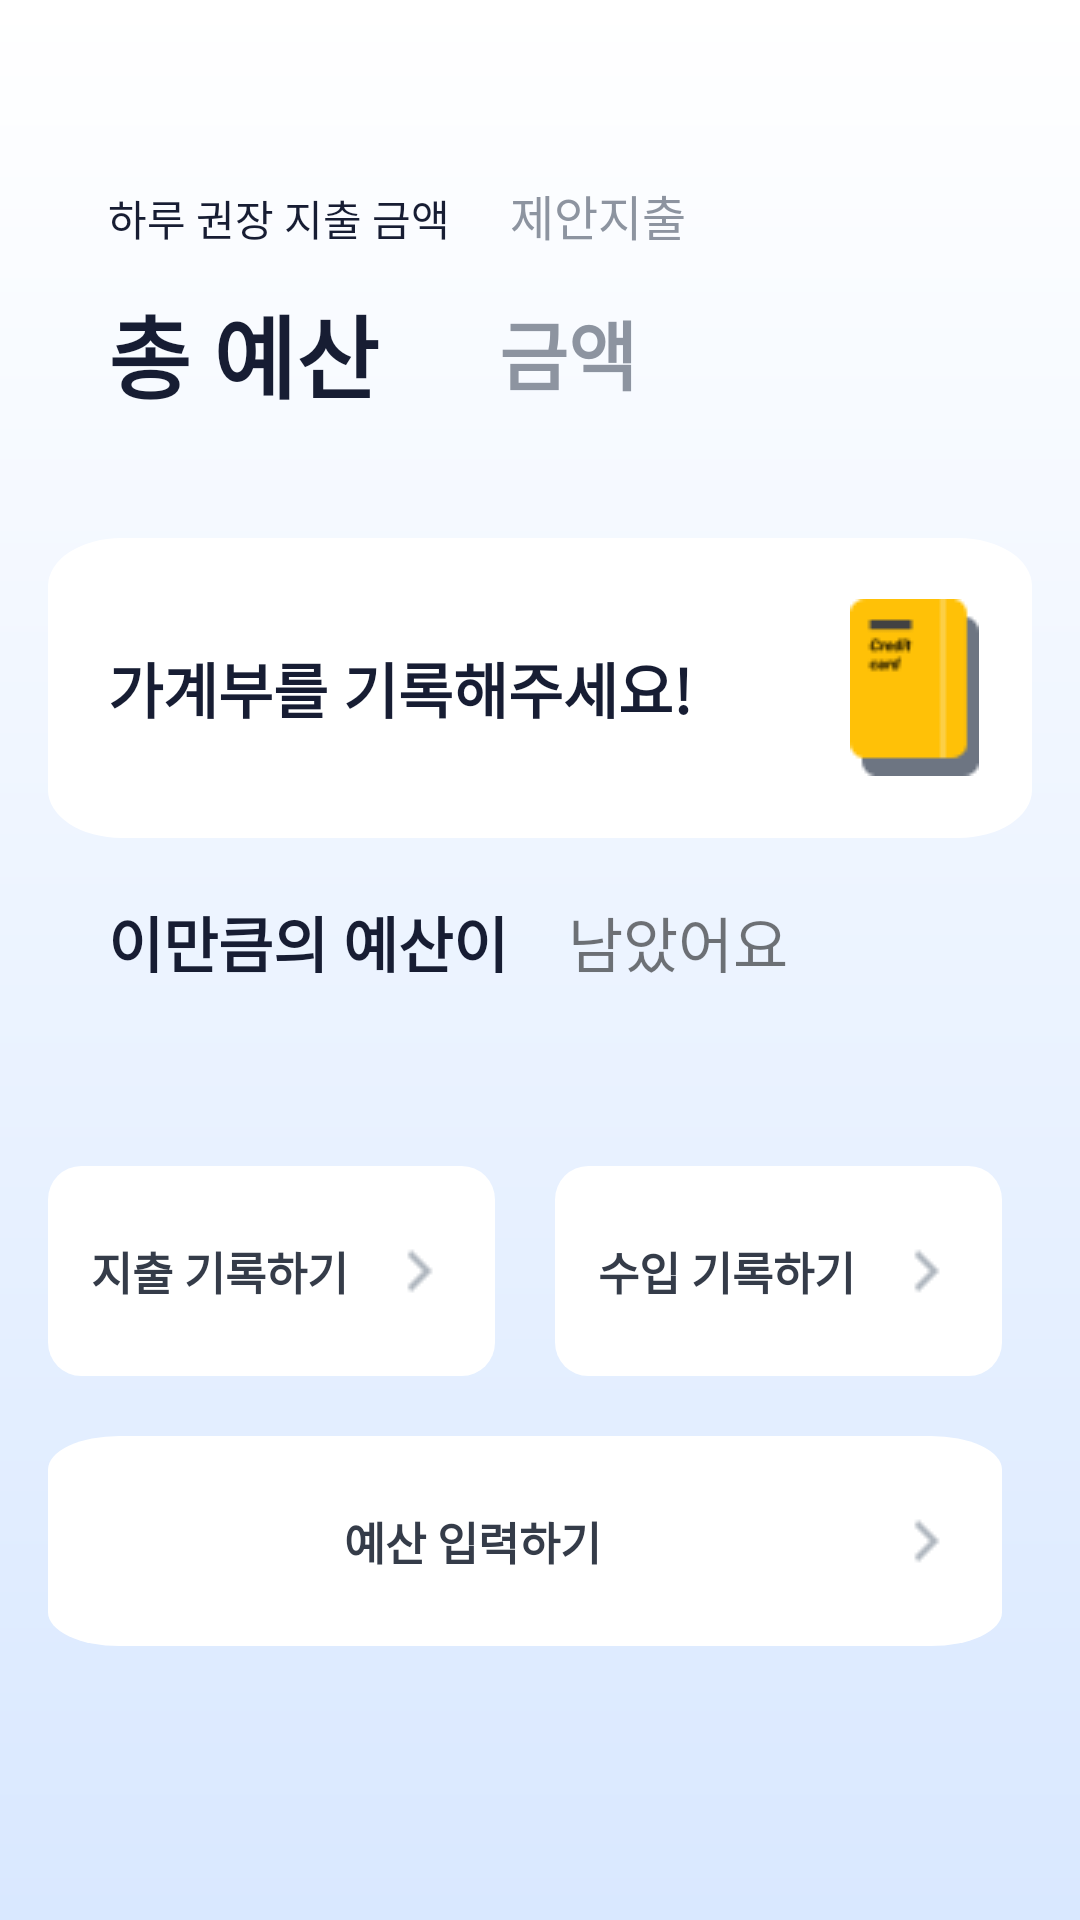

Icon click points for this 1080×1920 phone screenshot, format (x,y):
thumbnail: (914,687)
